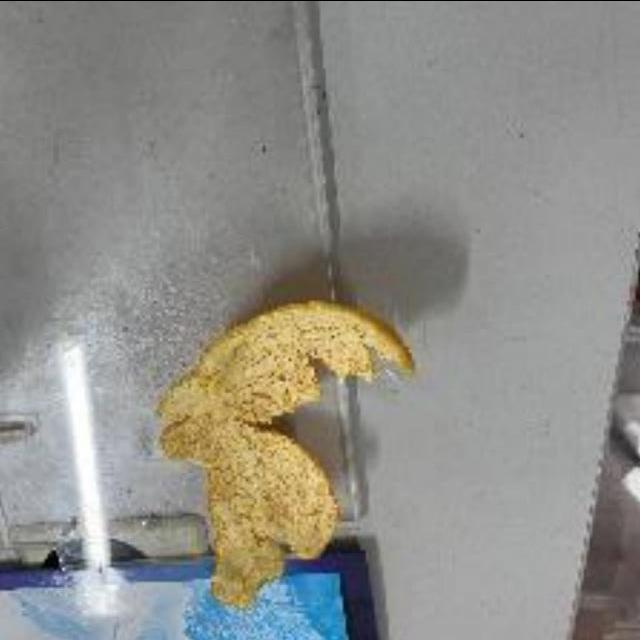orange peel: (156, 300, 421, 604)
